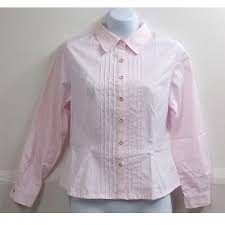S_shirt: (10, 22, 210, 209)
